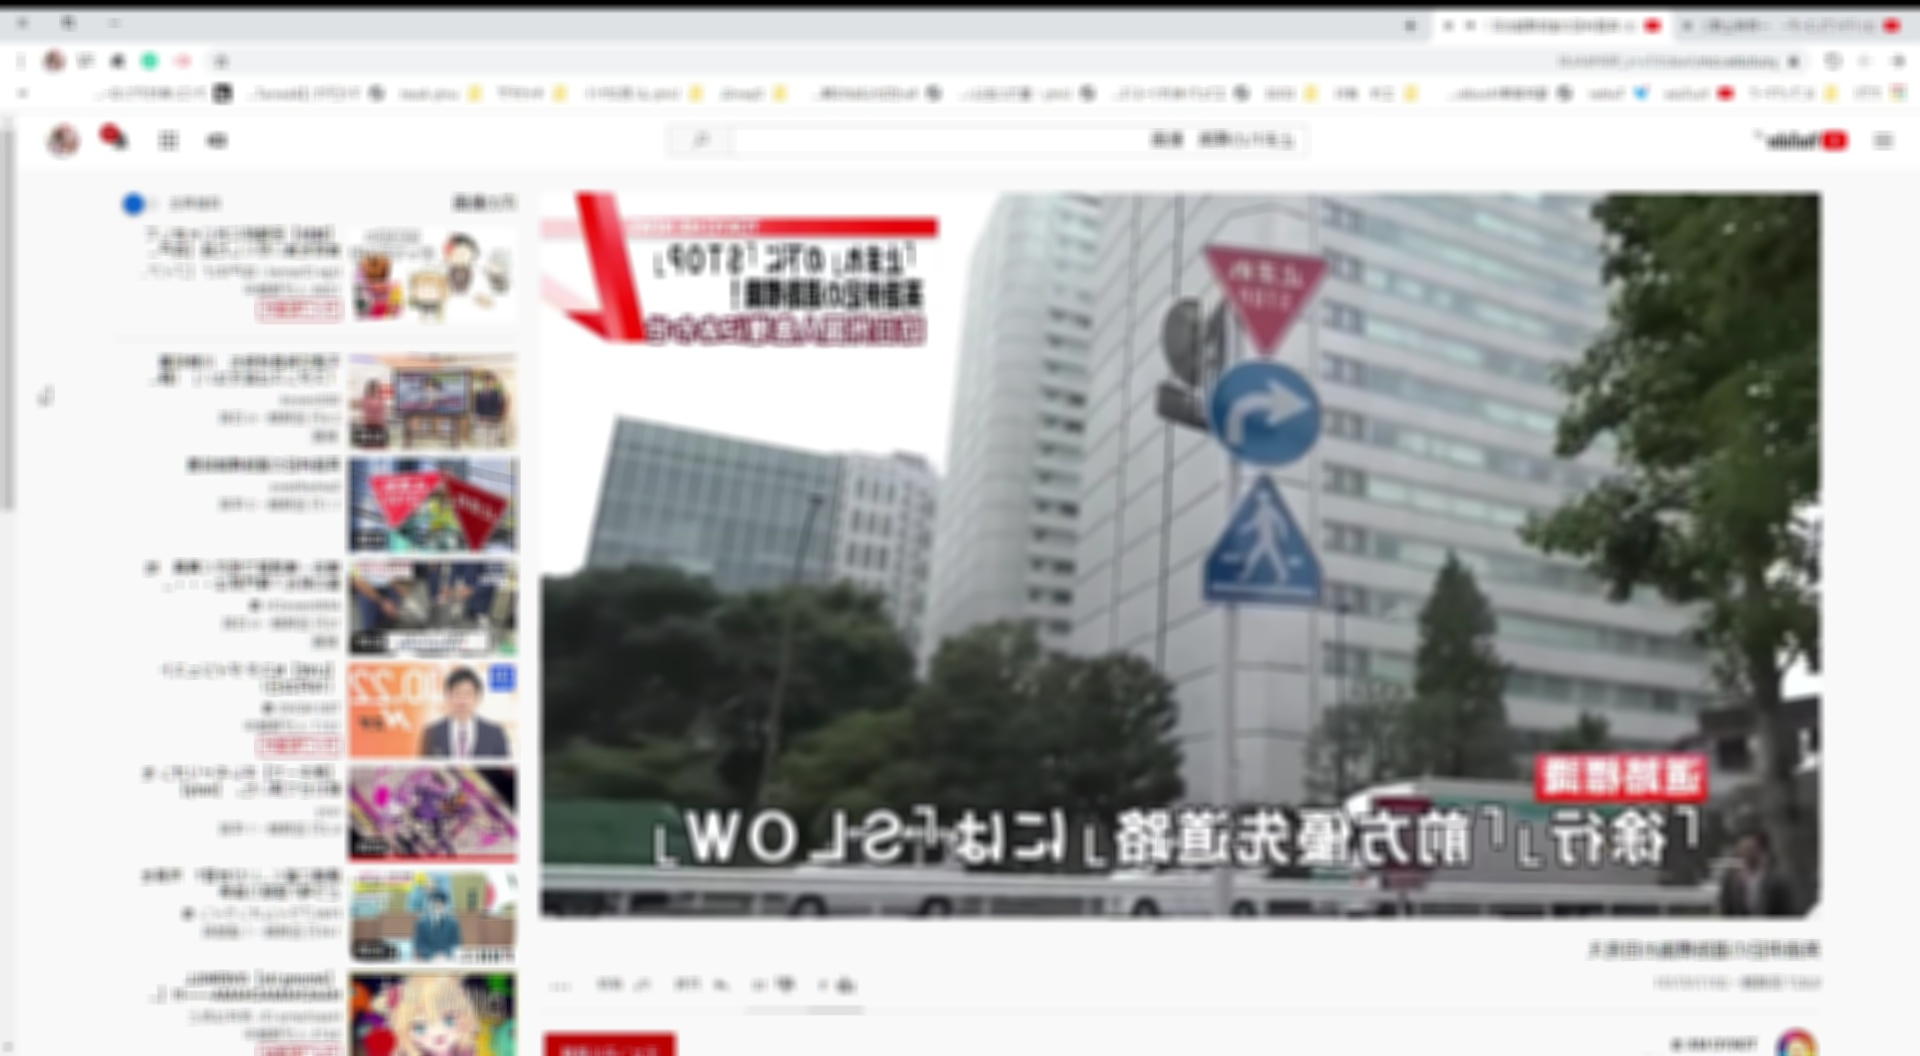Regulatory_sign_triangle: (1202, 229, 1342, 375)
